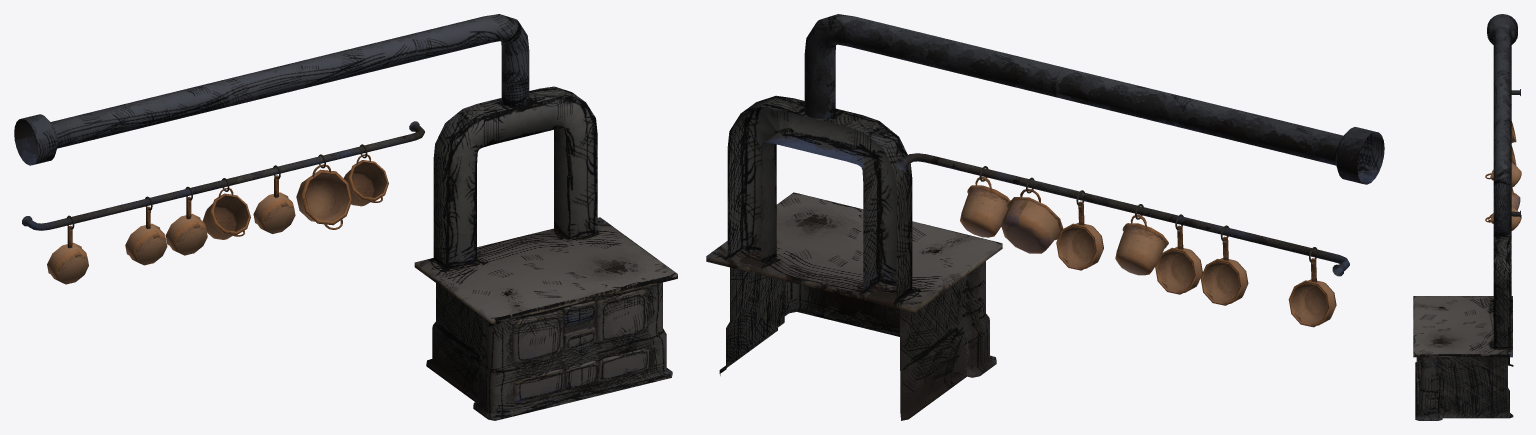
The model's file is oven.fbx.
3 renders of one model, left to right at view 1: azimuth 30°, elevation 25°; view 2: azimuth 150°, elevation 25°; view 3: azimuth 270°, elevation 25°, orthographic. The views are drawn at different scales.
Visible parts, largest first — view 1: Strove.006; view 2: Strove.006; view 3: Strove.006.
Part boxes in pixels (x1=…): Strove.006: x1=14, y1=14, x2=677, y2=420; Strove.006: x1=706, y1=14, x2=1384, y2=420; Strove.006: x1=1413, y1=14, x2=1521, y2=420.
Bounding box in the file's own units: 414 × 237 × 104.
Materials: 1 (1 with a texture image).
